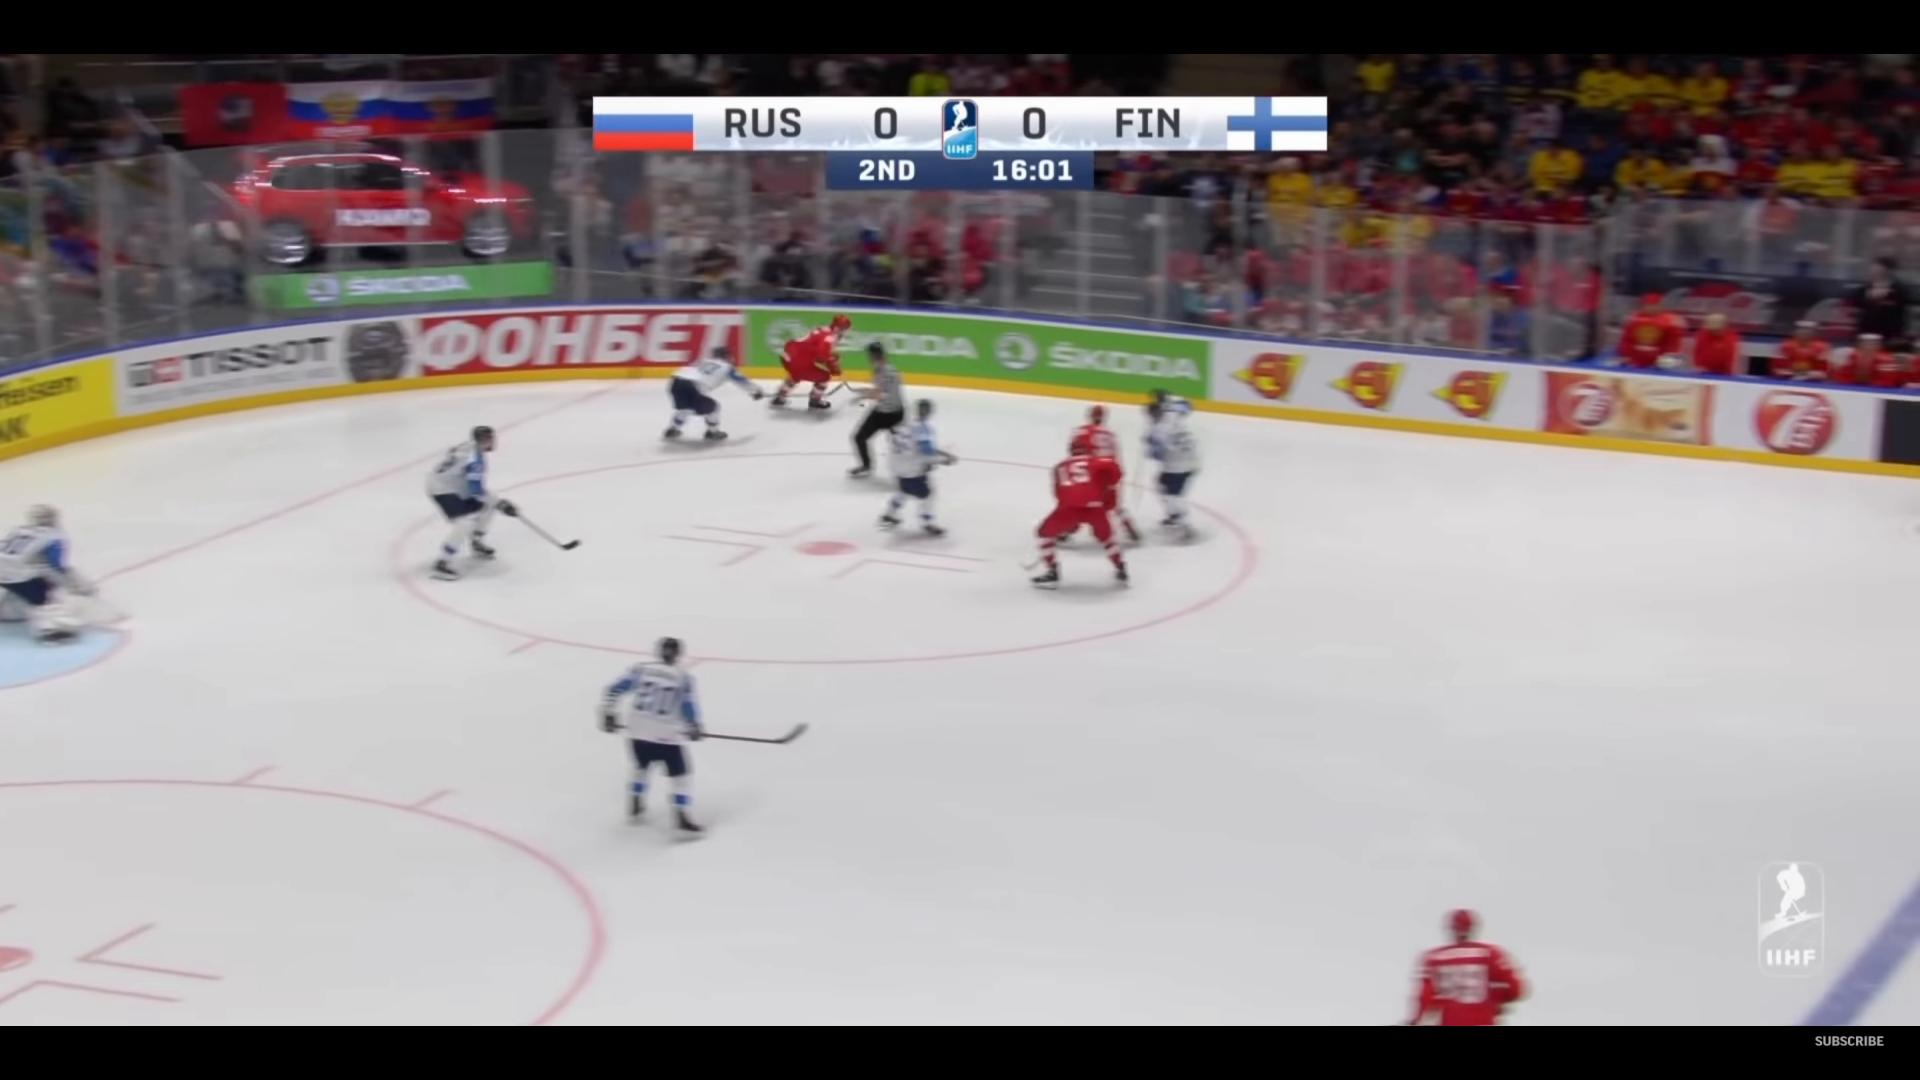puck: (858, 402, 864, 406)
